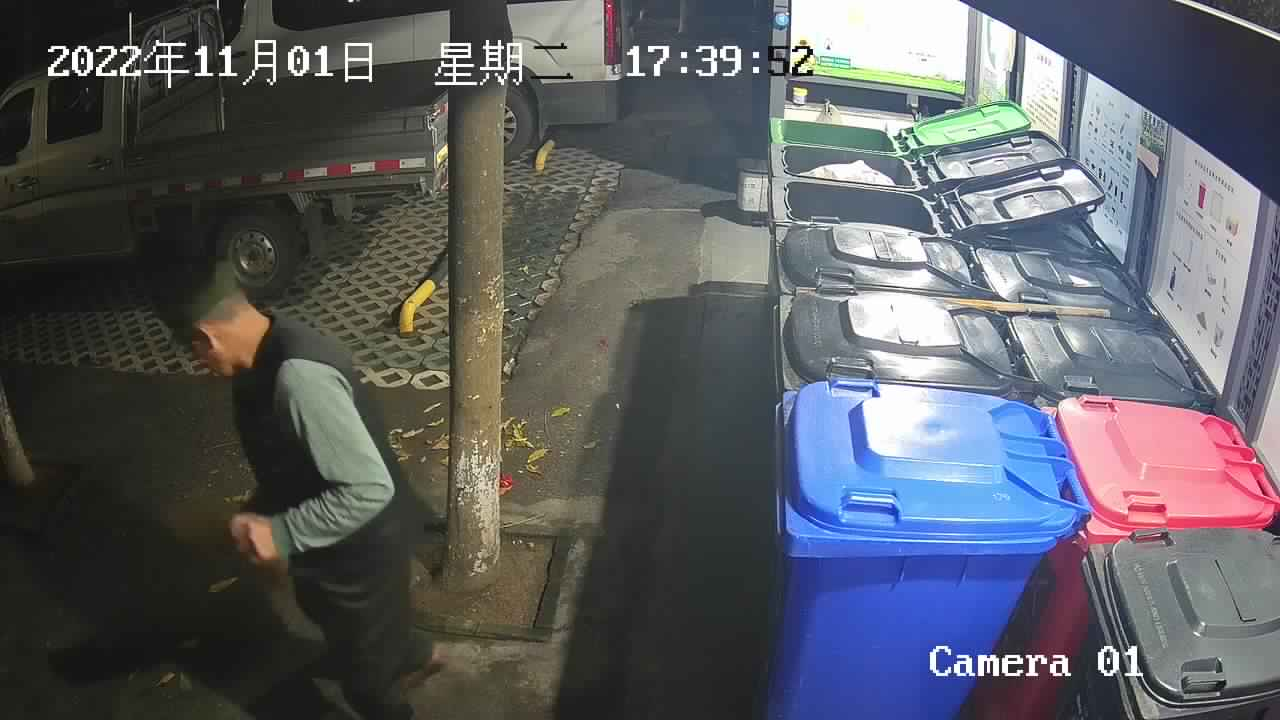person: (144, 252, 422, 720)
